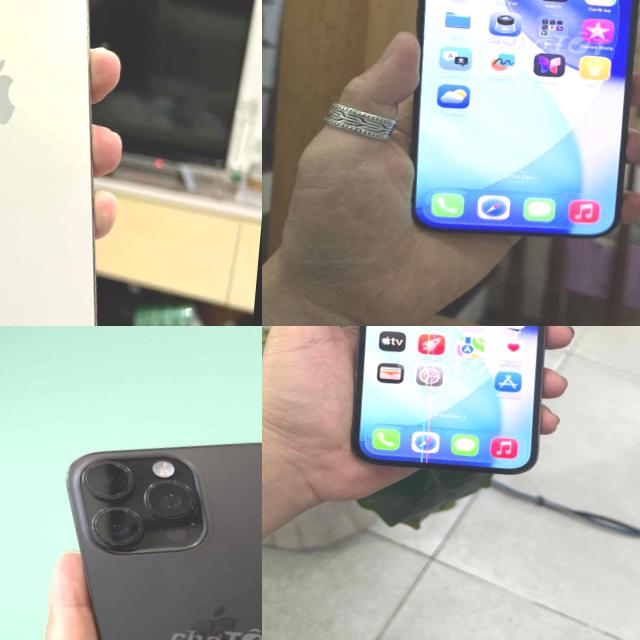screen_defect: (392, 326, 481, 473)
